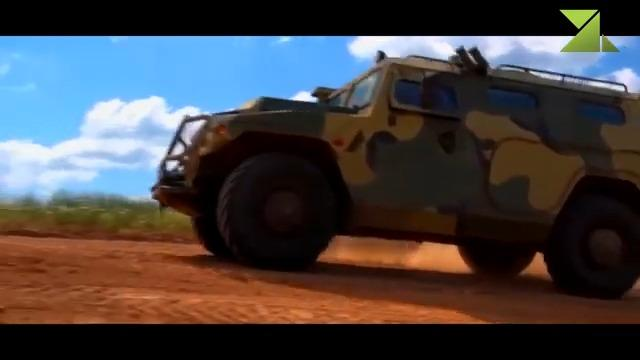MIL_HMMWV: (150, 44, 640, 300)
